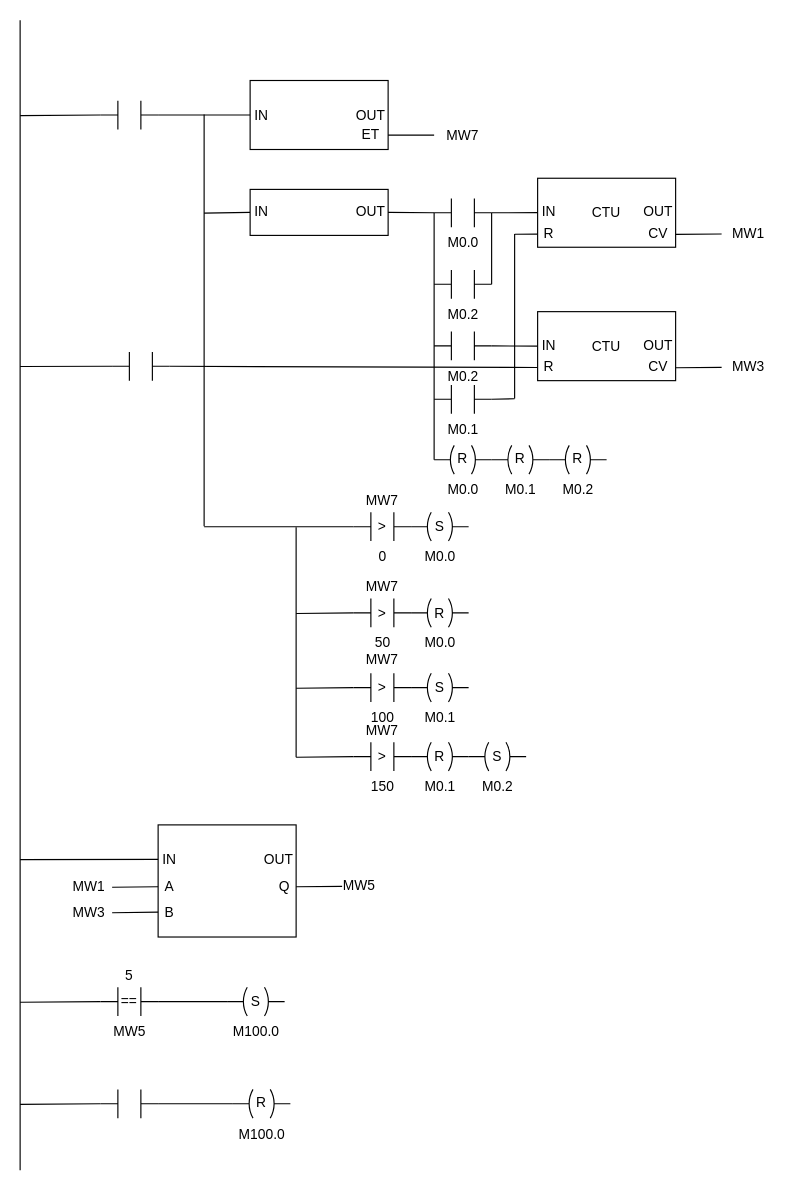
Some shapes in this 788 by 1191 pixel diagram are drawn without their labels. Here are the shapes that lost their labels. From the top down, the box of each, then its label:
(99, 99, 158, 129): I0.1
(249, 79, 388, 150): TON 151ms
(249, 188, 388, 235): N_TRIG
(111, 351, 170, 381): I0.2
(157, 824, 296, 937): ADD
(99, 1088, 158, 1118): I0.3
